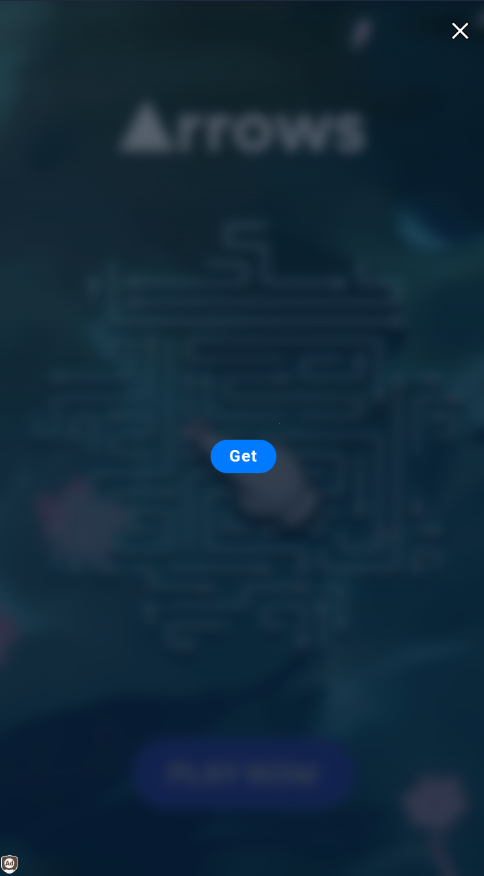close_button: (449, 19, 473, 43)
